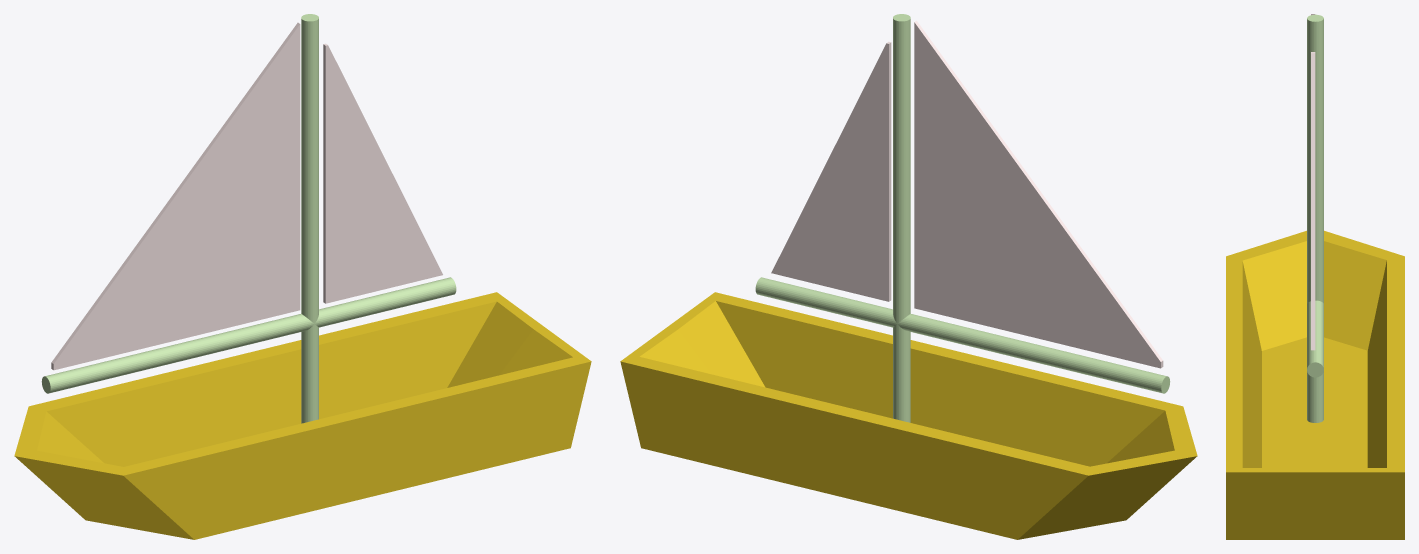
The model's file is sailboat.fbx.
The picture shows the model from 3 angles, left to right: view 1: azimuth 30°, elevation 25°; view 2: azimuth 150°, elevation 25°; view 3: azimuth 270°, elevation 25°; orthographic projection. The views are drawn at different scales.
Visible parts, largest first — view 1: boat, sail, mast; view 2: boat, sail, mast; view 3: boat, mast, sail.
Boxes of the visible parts, x1,y1,x2,y2 form: boat: (14,292,591,539); sail: (51,22,442,370); mast: (41,14,456,423); boat: (620,292,1197,539); sail: (771,20,1163,368); mast: (755,14,1170,422); boat: (1226,230,1404,539); mast: (1307,14,1323,422); sail: (1311,14,1315,350).
Bounding box in the file's own units: 946 × 764 × 293.
